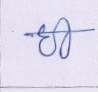i_matra: (57, 15, 71, 59)
